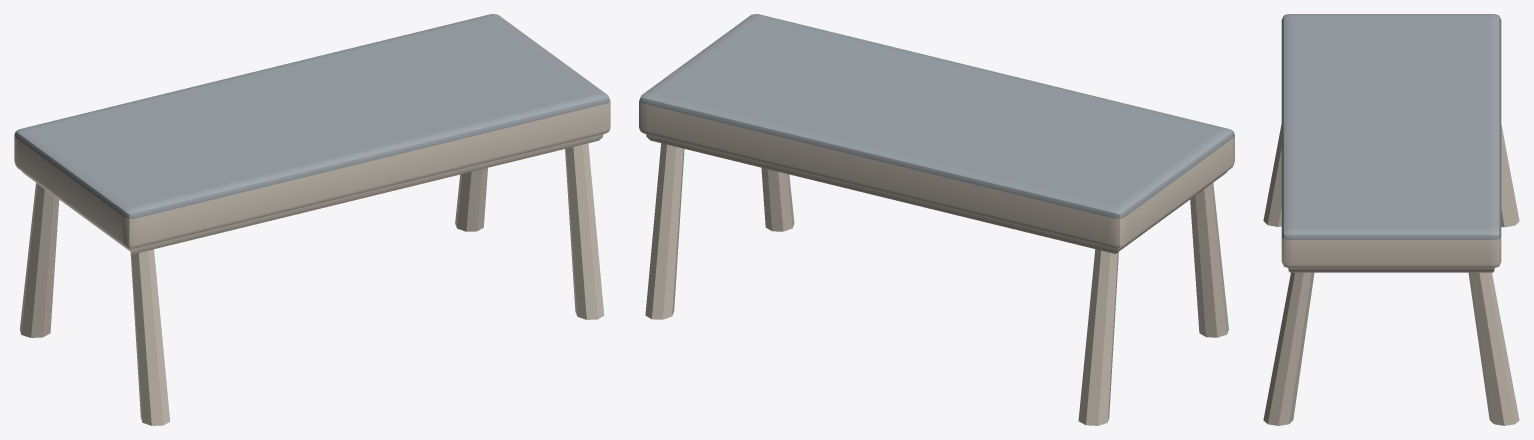
The model's file is Table.fbx.
3 views of the same model, side by side, from view 1: azimuth 30°, elevation 25°; view 2: azimuth 150°, elevation 25°; view 3: azimuth 270°, elevation 25° (orthographic). The views are drawn at different scales.
Parts seen in each view (by area): view 1: pCube1; view 2: pCube1; view 3: pCube1.
Boxes of the visible parts, x1=… form: pCube1: x1=14, y1=14, x2=610, y2=425; pCube1: x1=639, y1=14, x2=1234, y2=425; pCube1: x1=1263, y1=14, x2=1519, y2=425.
Size of the model in its own units: 25.84 by 10.73 by 12.58.
